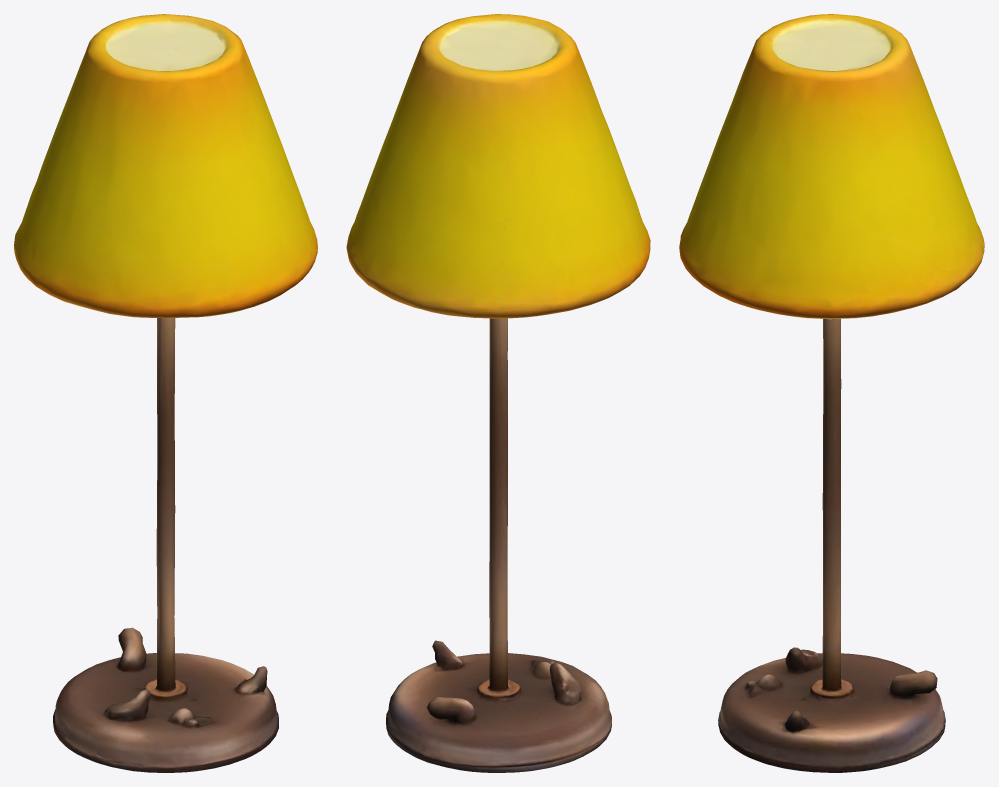
The model's file is lamp.glb.
3 views of the same model, side by side, from view 1: azimuth 30°, elevation 25°; view 2: azimuth 150°, elevation 25°; view 3: azimuth 270°, elevation 25° (orthographic).
Visible parts, largest first — view 1: tripo_node_47d31f86-1951-46f9-a200-3d633760d293; view 2: tripo_node_47d31f86-1951-46f9-a200-3d633760d293; view 3: tripo_node_47d31f86-1951-46f9-a200-3d633760d293.
Boxes of the visible parts, <box> form: tripo_node_47d31f86-1951-46f9-a200-3d633760d293: <box>14,14,317,772</box>; tripo_node_47d31f86-1951-46f9-a200-3d633760d293: <box>346,14,650,772</box>; tripo_node_47d31f86-1951-46f9-a200-3d633760d293: <box>679,14,984,772</box>.
Size of the model in its own units: 0.4054 by 1 by 0.4054.
1 material, 1 textured.
